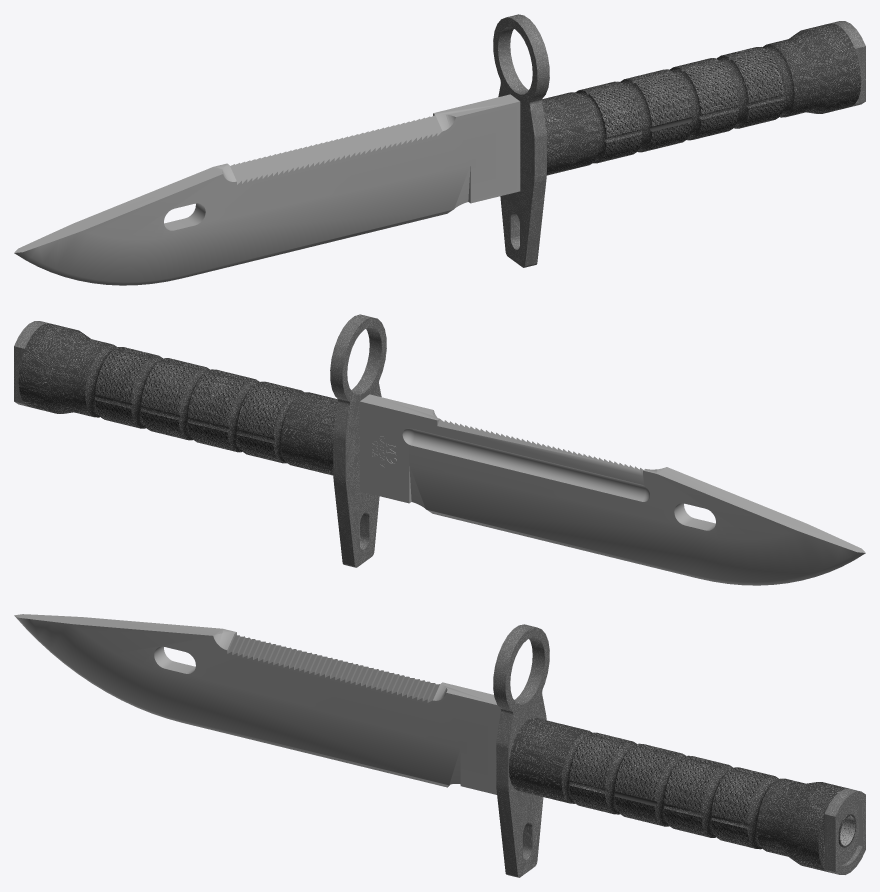
The model's file is m9_bayonet - Copy - Copy.dae.
The picture shows the model from 3 angles, top to bottom: view 1: azimuth 30°, elevation 25°; view 2: azimuth 150°, elevation 25°; view 3: azimuth 330°, elevation 25°; orthographic projection.
Visible parts, largest first — view 1: Component_2 (×2), Component_1 (×12); view 2: Component_2 (×2), Component_1 (×12); view 3: Component_2 (×2), Component_1 (×13).
Boxes of the visible parts, x1,y1,x2,y2 form: Component_2 (×2): (14, 94, 520, 285); Component_1 (×12): (493, 14, 865, 267); Component_2 (×2): (359, 394, 865, 585); Component_1 (×12): (14, 314, 386, 567); Component_2 (×2): (14, 614, 500, 794); Component_1 (×13): (493, 624, 865, 877).
Bounding box in the file's own units: 101600 × 9330 × 28007.
Materials: 4 (1 with a texture image).
